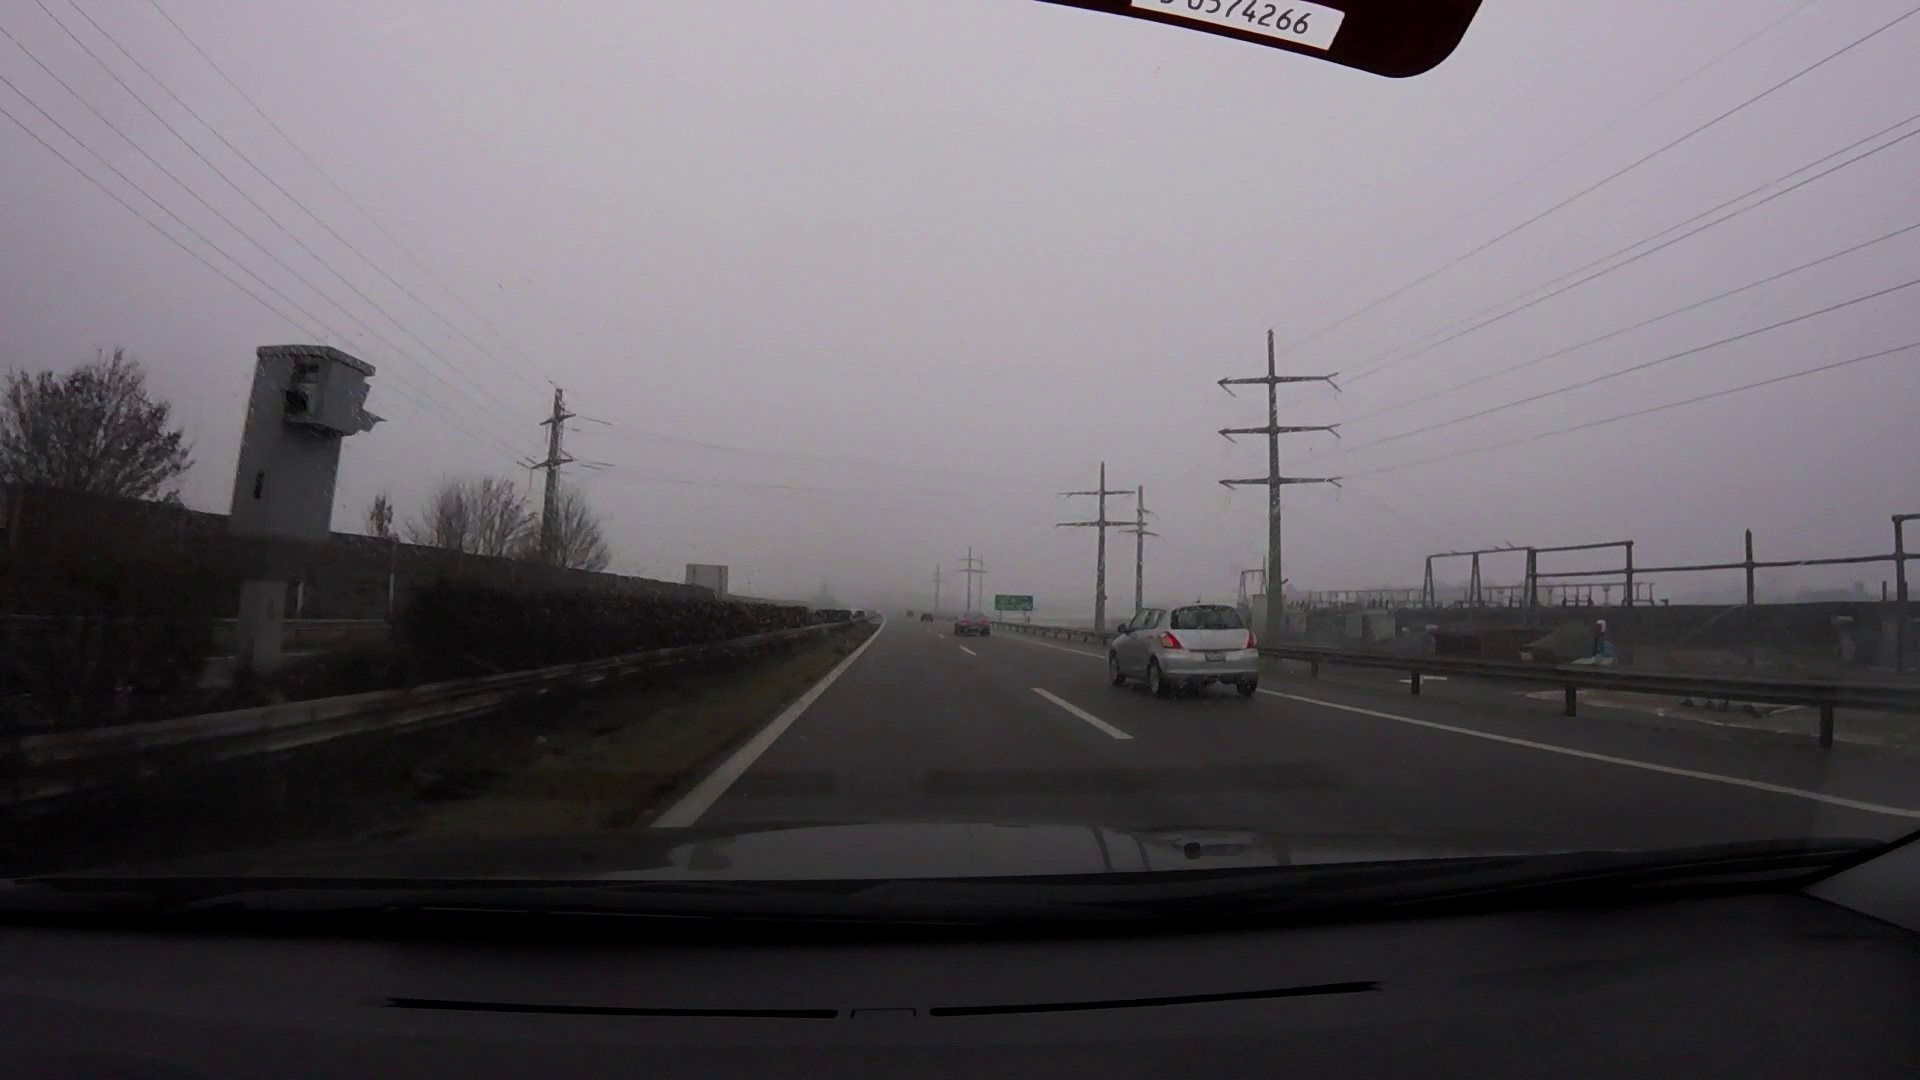radar: (224, 342, 390, 626)
